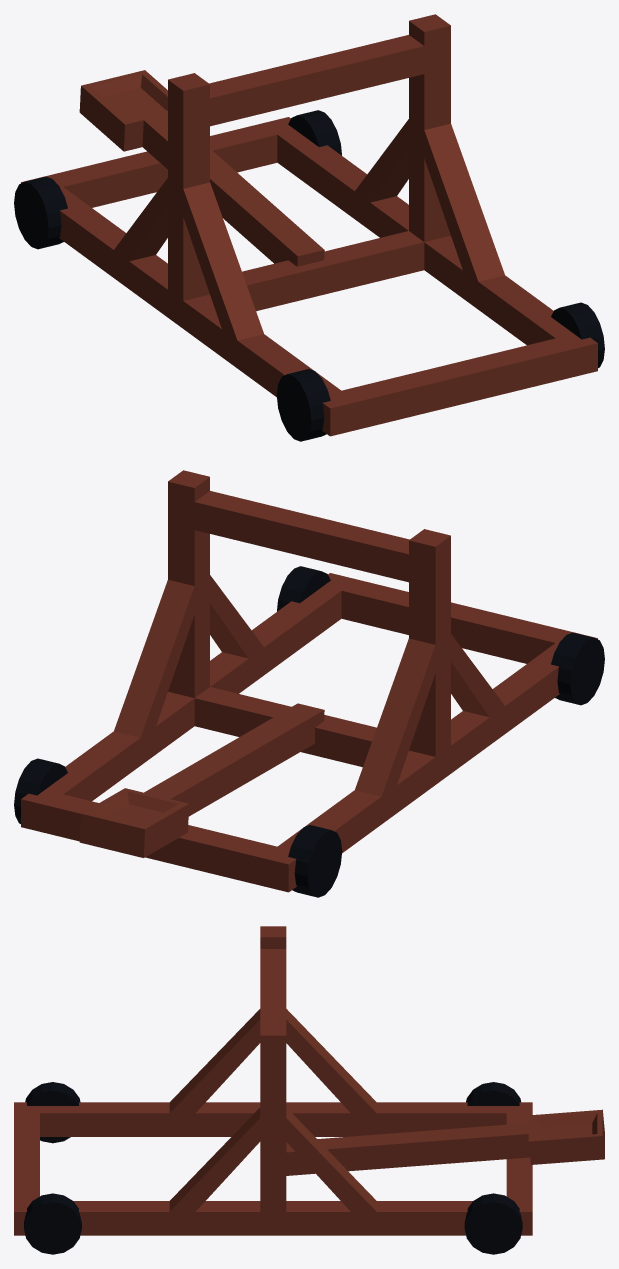
File: Catapult.fbx
3 renders of one model, top to bottom at view 1: azimuth 30°, elevation 25°; view 2: azimuth 150°, elevation 25°; view 3: azimuth 270°, elevation 25°, orthographic. The views are drawn at different scales.
Parts seen in each view (by area): view 1: Catapult; view 2: Catapult; view 3: Catapult.
Boxes of the visible parts, bbox=[...] form: Catapult: bbox=[14, 14, 604, 441]; Catapult: bbox=[14, 470, 604, 897]; Catapult: bbox=[14, 926, 604, 1254].
Size of the model in its own units: 110 by 90.92 by 228.
